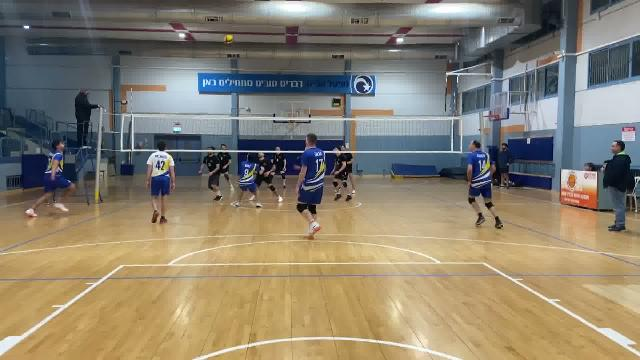ball: (221, 33, 237, 46)
